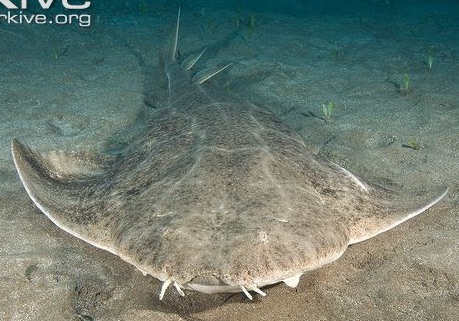shark: (15, 7, 452, 312)
